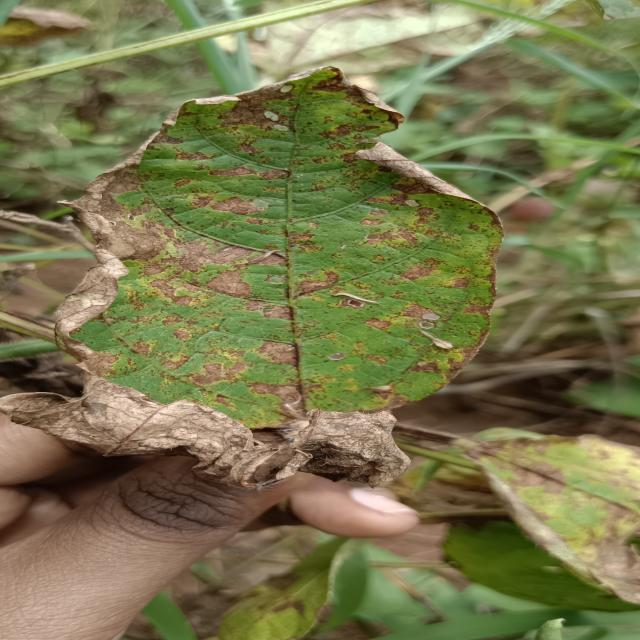Black gram_leaf spot: (0, 57, 515, 492), (454, 423, 640, 608)
